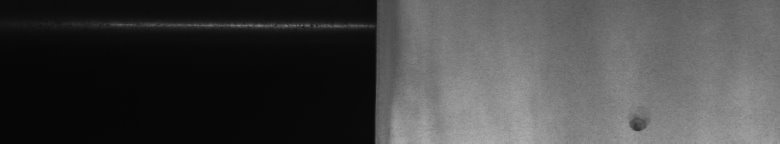fi: (623, 108, 652, 136)
